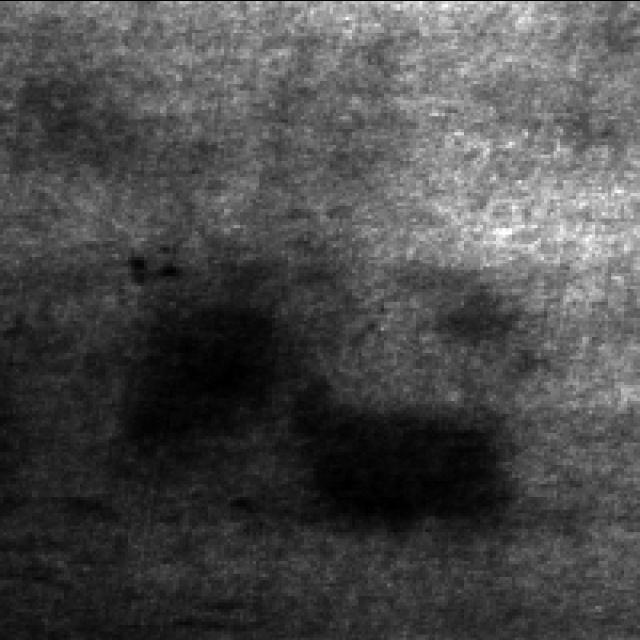patches: (118, 230, 284, 444), (306, 382, 493, 542), (425, 268, 525, 362)
